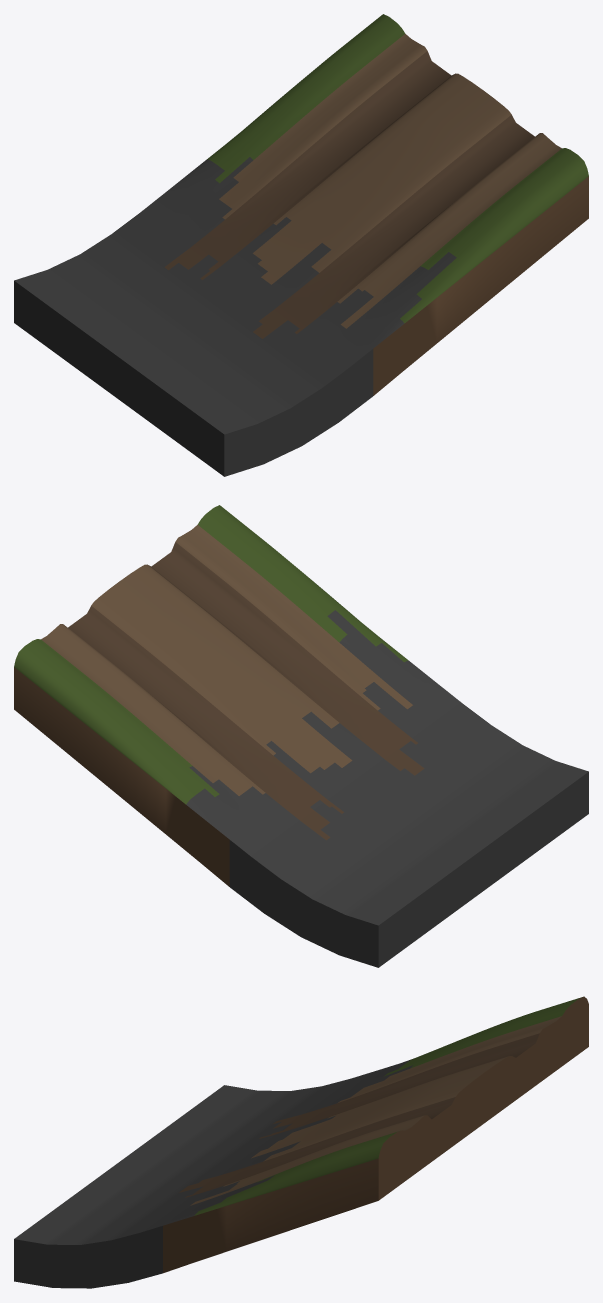
3 renders of one model, top to bottom at view 1: azimuth 30°, elevation 25°; view 2: azimuth 150°, elevation 25°; view 3: azimuth 330°, elevation 25°, orthographic.
Visible parts, largest first — view 1: d2u; view 2: d2u; view 3: d2u.
Part boxes in pixels (<box>): d2u: <box>14,14,588,476</box>; d2u: <box>14,505,588,967</box>; d2u: <box>14,996,588,1288</box>.
Bounding box in the file's own units: 9 × 5.31 × 9.
